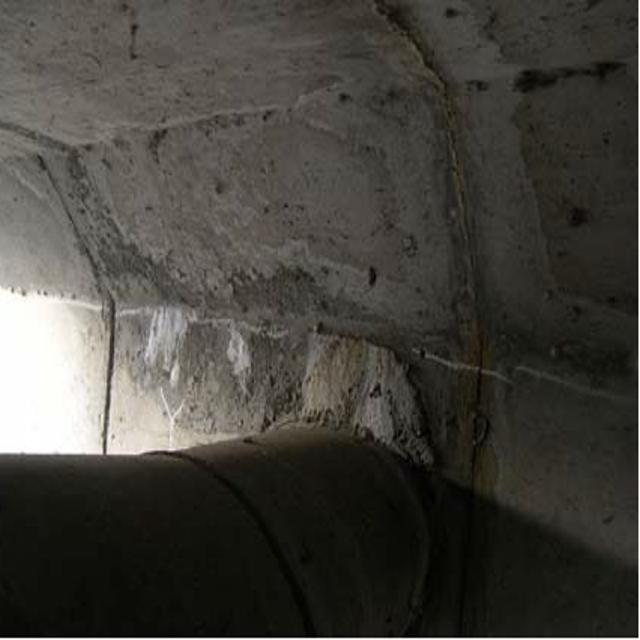freelime: (133, 276, 268, 394)
